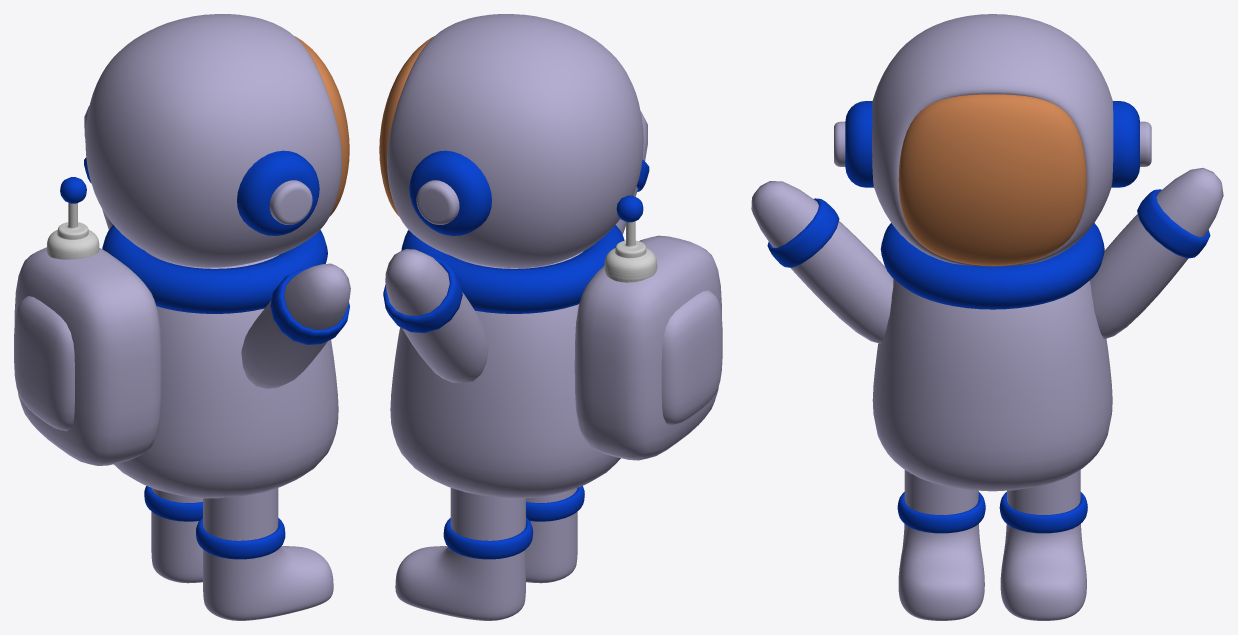
File: astronaut.glb
3 renders of one model, left to right at view 1: azimuth 30°, elevation 25°; view 2: azimuth 150°, elevation 25°; view 3: azimuth 270°, elevation 25°, orthographic.
Visible parts, largest first — view 1: Buffer Object (×5), Torus, Cube.008, Cylinder.001, Cube.003, Cylinder, Cube.012, Glass, Cylinder.002, Cube.007; view 2: Buffer Object (×5), Torus, Cube.008, Cylinder.001, Cube.003, Cylinder, Cube.005, Glass, Cylinder.002, Cube.007; view 3: Buffer Object (×5), Glass, Torus, Cylinder.001, Cube.003, Cube.005, Cube.012, Cylinder.002.
Part boxes in pixels (left/top/right/bottom): Buffer Object (×5): left=14, top=14, right=350, bottom=620; Torus: left=102, top=225, right=327, bottom=313; Cube.008: left=14, top=296, right=74, bottom=431; Cylinder.001: left=237, top=150, right=319, bottom=235; Cube.003: left=144, top=486, right=285, bottom=559; Cylinder: left=46, top=202, right=99, bottom=259; Cube.012: left=270, top=269, right=349, bottom=344; Glass: left=294, top=36, right=349, bottom=215; Cylinder.002: left=269, top=180, right=312, bottom=224; Cube.007: left=60, top=177, right=86, bottom=203; Buffer Object (×5): left=385, top=14, right=721, bottom=620; Torus: left=401, top=225, right=624, bottom=313; Cube.008: left=661, top=290, right=722, bottom=425; Cylinder.001: left=409, top=150, right=491, bottom=235; Cube.003: left=443, top=486, right=584, bottom=559; Cylinder: left=604, top=221, right=657, bottom=282; Cube.005: left=383, top=256, right=462, bottom=332; Glass: left=379, top=36, right=434, bottom=215; Cylinder.002: left=416, top=180, right=459, bottom=224; Cube.007: left=616, top=195, right=643, bottom=222; Buffer Object (×5): left=751, top=14, right=1223, bottom=620; Glass: left=898, top=94, right=1086, bottom=265; Torus: left=880, top=223, right=1104, bottom=309; Cylinder.001: left=845, top=101, right=1139, bottom=187; Cube.003: left=897, top=492, right=1087, bottom=533; Cube.005: left=1137, top=189, right=1210, bottom=258; Cube.012: left=767, top=198, right=839, bottom=267; Cylinder.002: left=834, top=121, right=1151, bottom=166.
Bounding box in the file's own units: 1.97 × 3.6 × 2.74.
